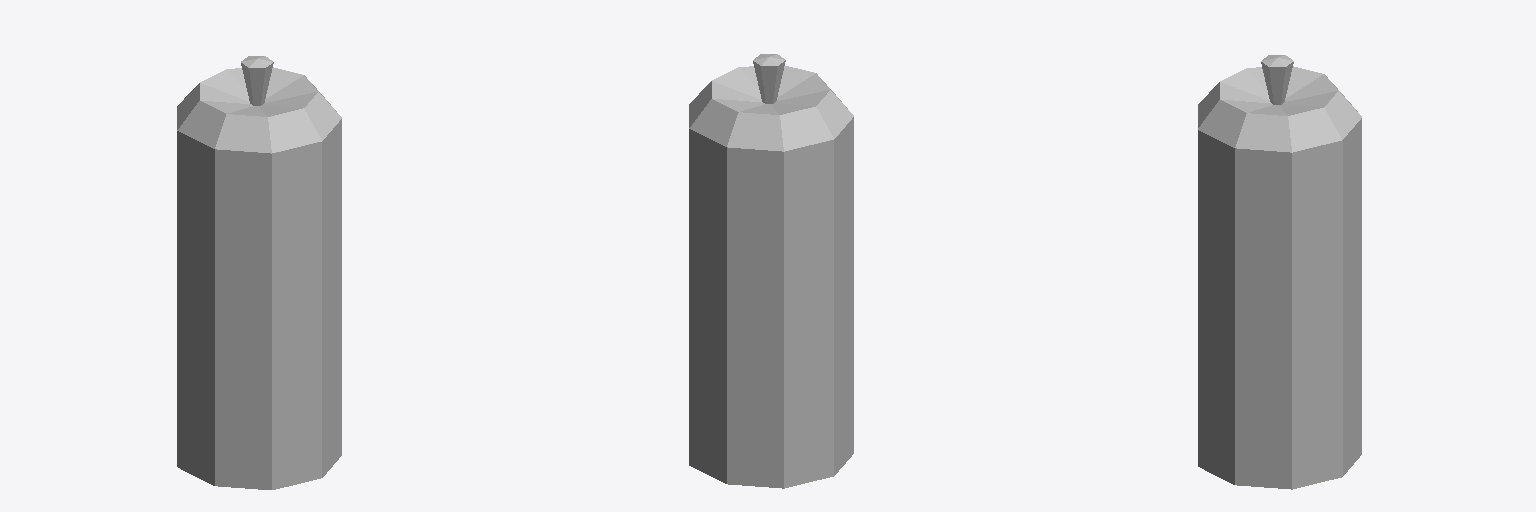
File: candle.obj
3 views of the same model, side by side, from view 1: azimuth 30°, elevation 25°; view 2: azimuth 150°, elevation 25°; view 3: azimuth 270°, elevation 25° (orthographic).
Visible parts, largest first — view 1: candle; view 2: candle; view 3: candle.
Part boxes in pixels (x1,y1,x2,y2): candle: (177,56,341,489); candle: (689,54,853,488); candle: (1198,55,1361,489).
Bounding box in the file's own units: 0.3344 × 0.873 × 0.3293.